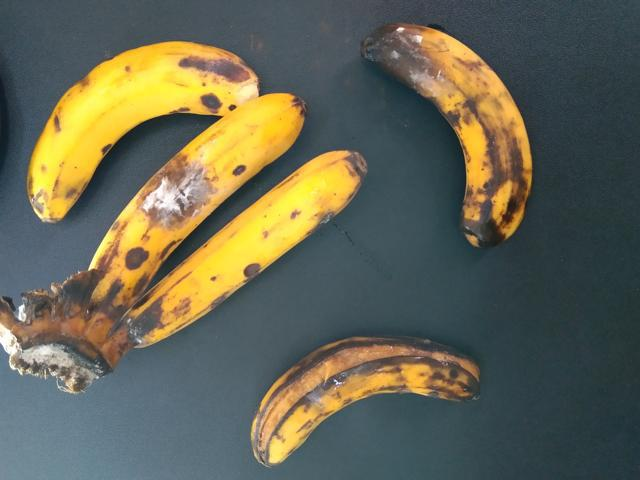overripe: (119, 130, 394, 338), (82, 82, 335, 301), (7, 30, 261, 234)
rotten: (350, 0, 552, 254), (233, 324, 496, 472)
